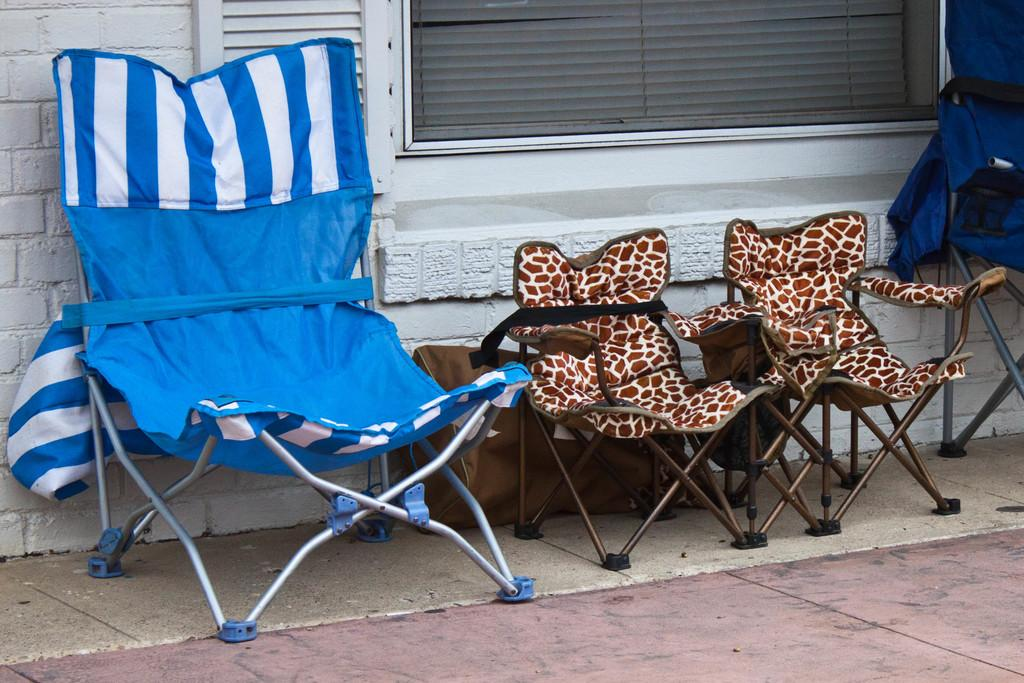Chair: (3, 42, 528, 644), (683, 214, 1018, 554), (463, 243, 771, 572)
